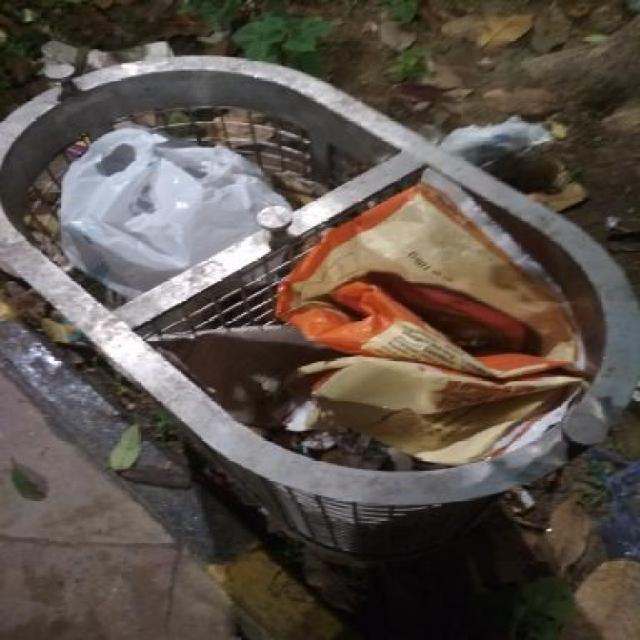garbage: (294, 211, 590, 480), (5, 286, 184, 549), (418, 11, 640, 191), (54, 132, 296, 264), (31, 40, 258, 104), (547, 494, 640, 640)
